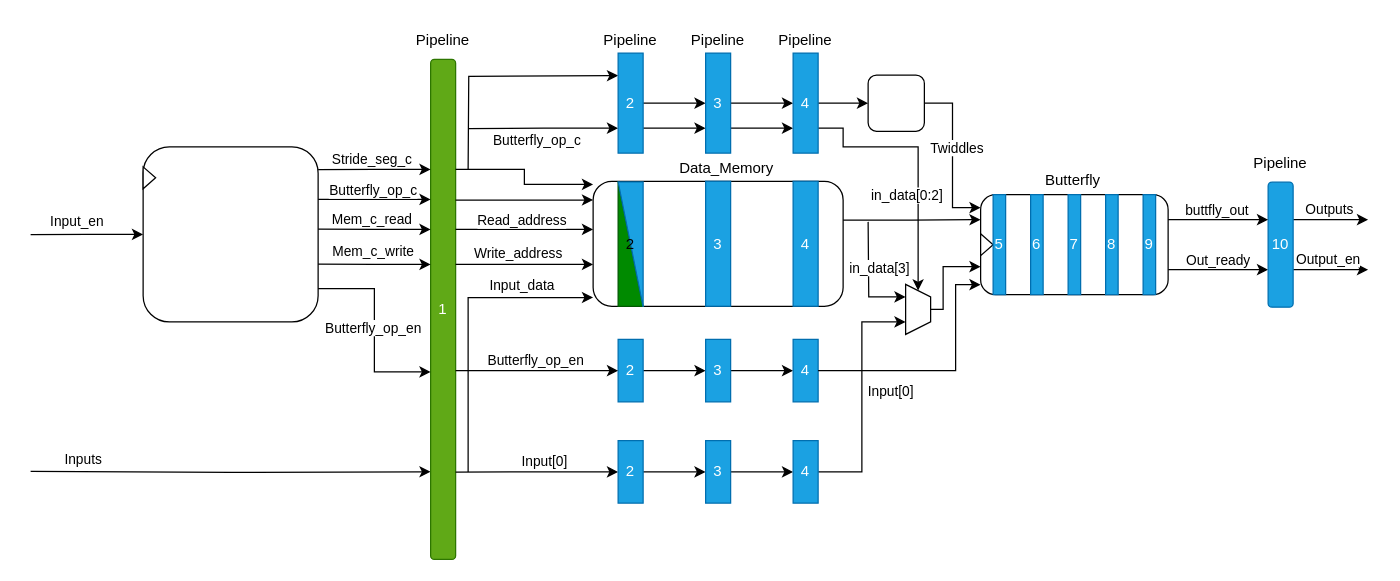
This 1400x581 diagram has some shape labels left out. Here are the shapes that lost their labels. From the top down, the centre of each, then its label:
At point 895,102: "Twiddle mem".
At point 230,234: "Control Unit".
